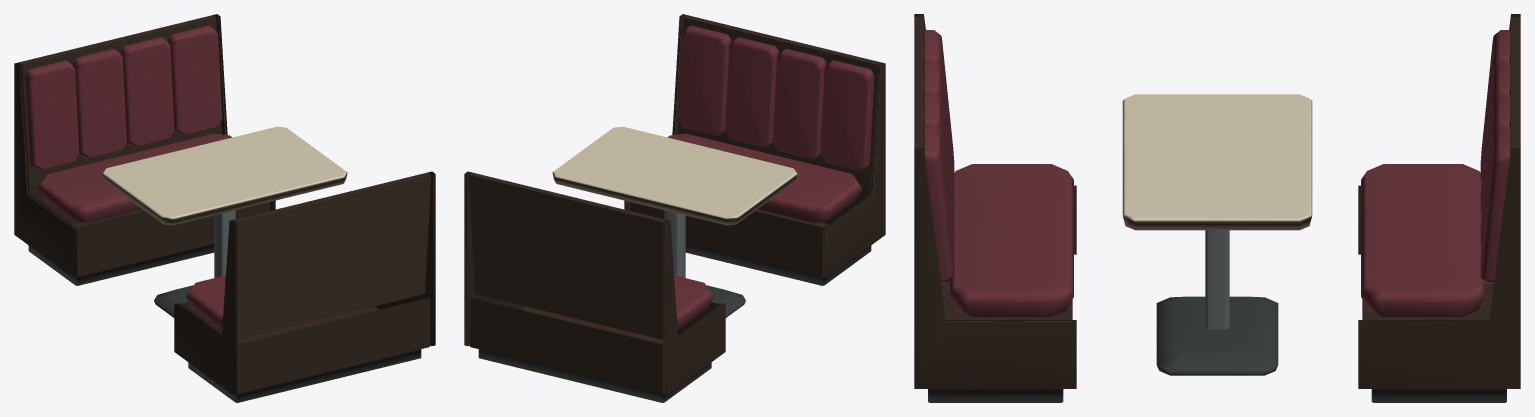
File: Diner_Booth_Set.fbx
The picture shows the model from 3 angles, left to right: view 1: azimuth 30°, elevation 25°; view 2: azimuth 150°, elevation 25°; view 3: azimuth 270°, elevation 25°; orthographic projection. The views are drawn at different scales.
Visible parts, largest first — view 1: Diner_Bench, Diner_Bench_Opposite, Diner_Table; view 2: Diner_Bench_Opposite, Diner_Bench, Diner_Table; view 3: Diner_Bench, Diner_Bench_Opposite, Diner_Table.
Part boxes in pixels (bbox=[...]): Diner_Bench: bbox=[174, 171, 435, 402]; Diner_Bench_Opposite: bbox=[14, 14, 275, 285]; Diner_Table: bbox=[102, 126, 347, 317]; Diner_Bench_Opposite: bbox=[464, 171, 725, 402]; Diner_Bench: bbox=[624, 14, 885, 285]; Diner_Table: bbox=[552, 126, 797, 317]; Diner_Bench: bbox=[914, 14, 1076, 402]; Diner_Bench_Opposite: bbox=[1358, 14, 1520, 402]; Diner_Table: bbox=[1122, 94, 1312, 375].
Size of the model in its own units: 1.2 by 1.05 by 2.24.
